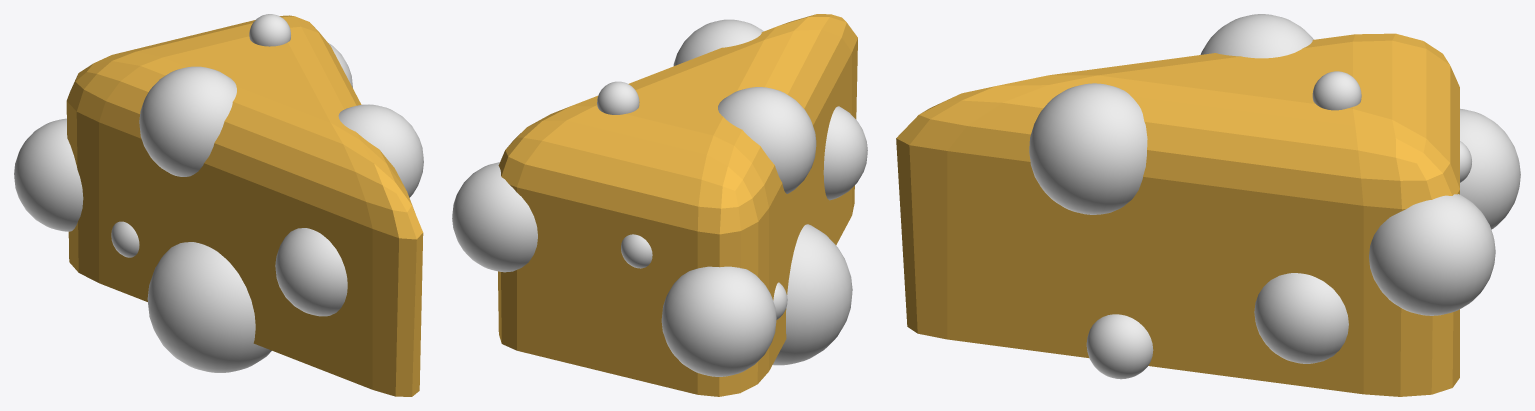
The model's file is Prop-cheese.fbx.
3 views of the same model, side by side, from view 1: azimuth 30°, elevation 25°; view 2: azimuth 150°, elevation 25°; view 3: azimuth 270°, elevation 25° (orthographic). The views are drawn at different scales.
Visible parts, largest first — view 1: Cube, Sphere; view 2: Cube, Sphere; view 3: Cube, Sphere.
Boxes of the visible parts, x1,y1,x2,y2 form: Cube: (66, 15, 423, 396); Sphere: (14, 14, 423, 372); Cube: (498, 14, 857, 396); Sphere: (452, 19, 867, 376); Cube: (896, 33, 1459, 396); Sphere: (1029, 14, 1520, 379).
Bounding box in the file's own units: 33.13 × 28.71 × 48.64.
